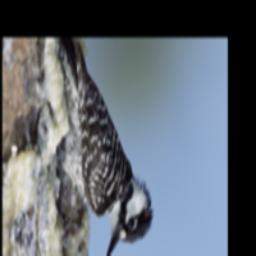Woodpecker: (30, 42, 155, 256)
